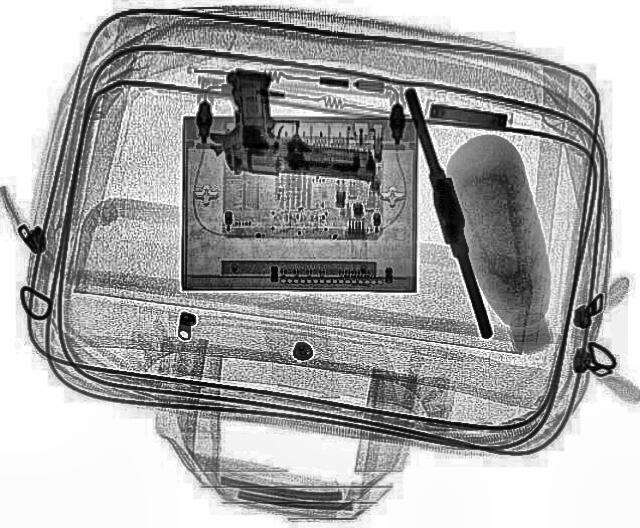Gun: (202, 68, 384, 184)
